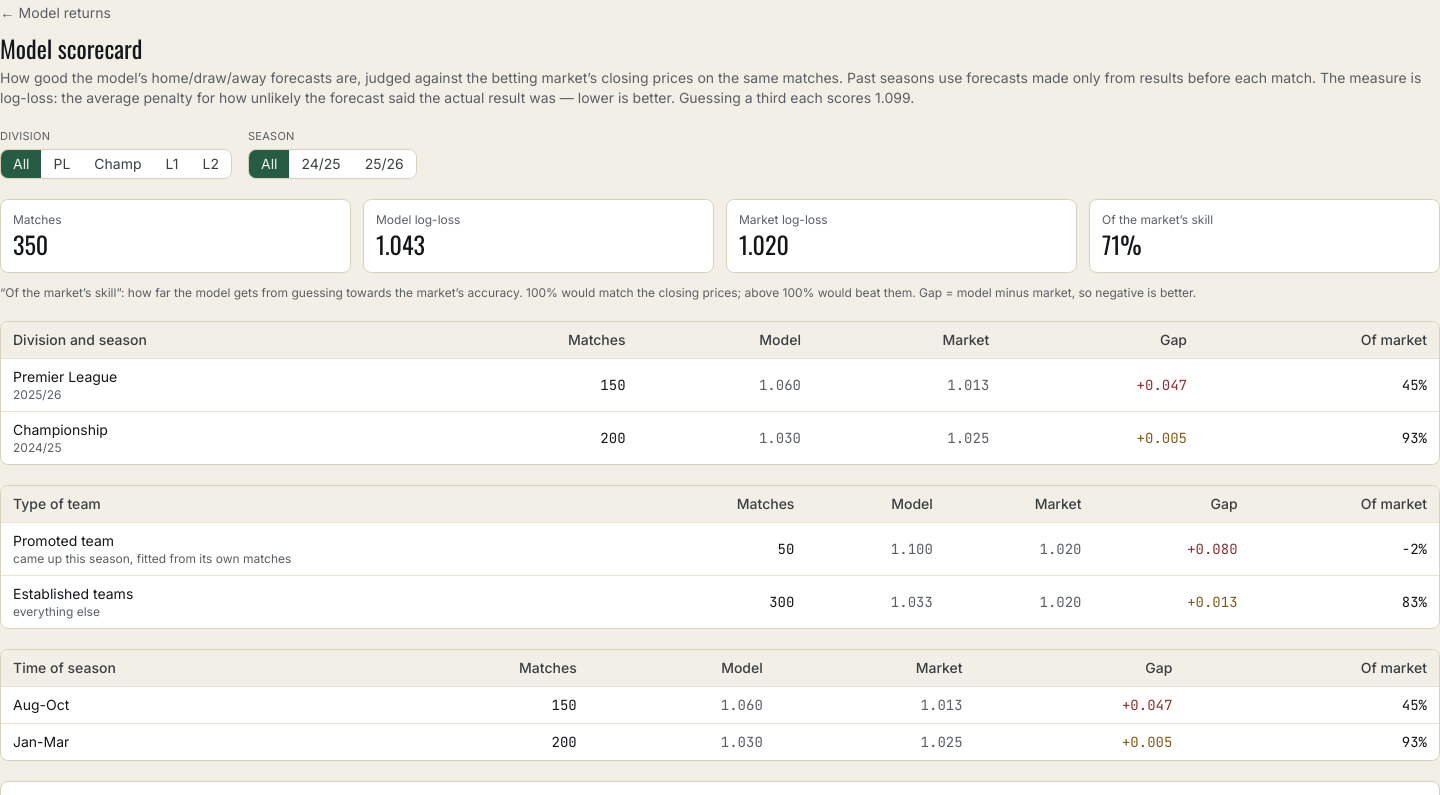
Test case: ModelScorecardPage › filters by division and season
Expected: the element named "Headline" is shown, [0,198,1439,272]
Step 1. Click the button "Champ" → (118, 164), box [82,150,154,178]
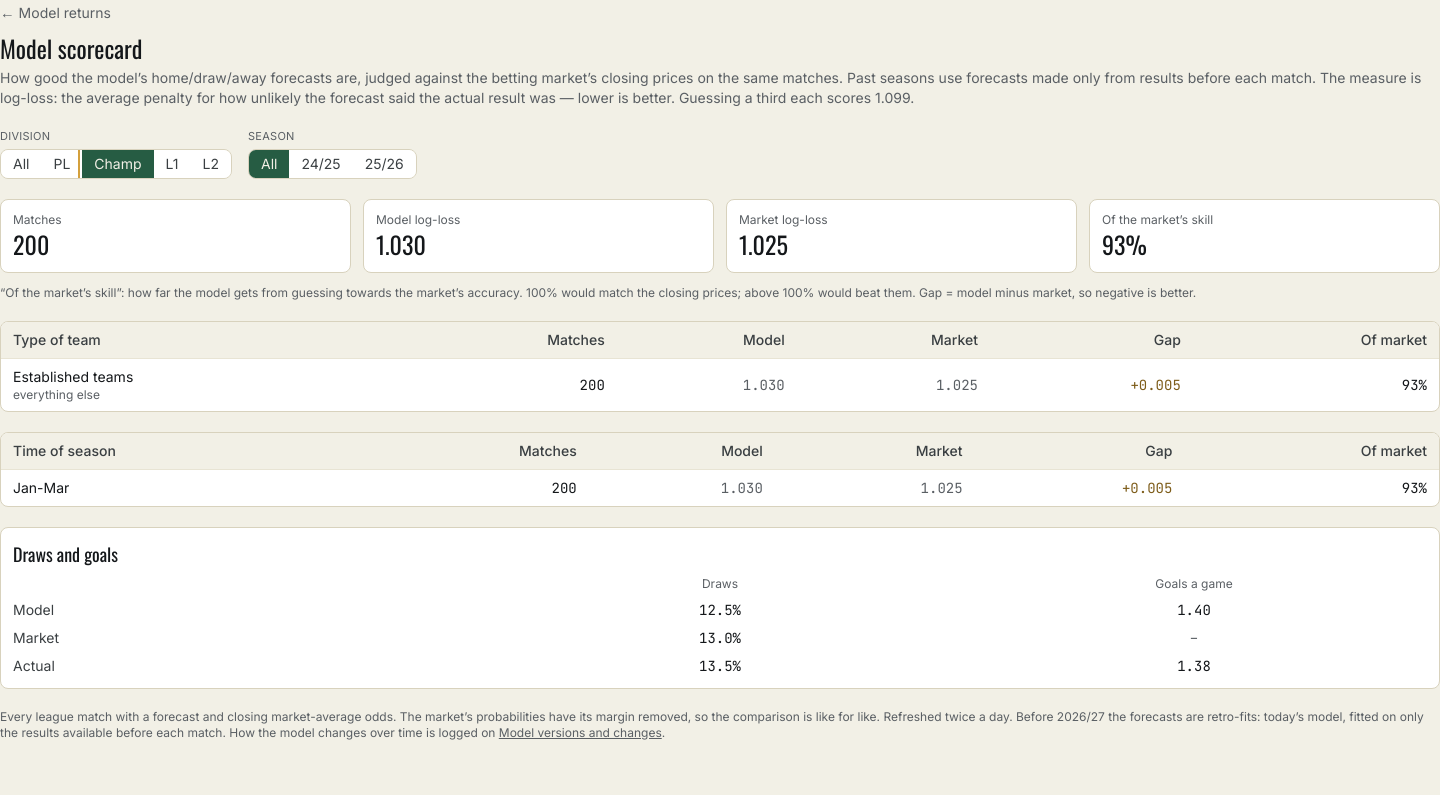
Now the text "200" is shown, box [13,226,49,262]
Now the column heading "Division and season" is gone
Step 2. Click the button "25/26" → (384, 164), box [353,150,416,178]
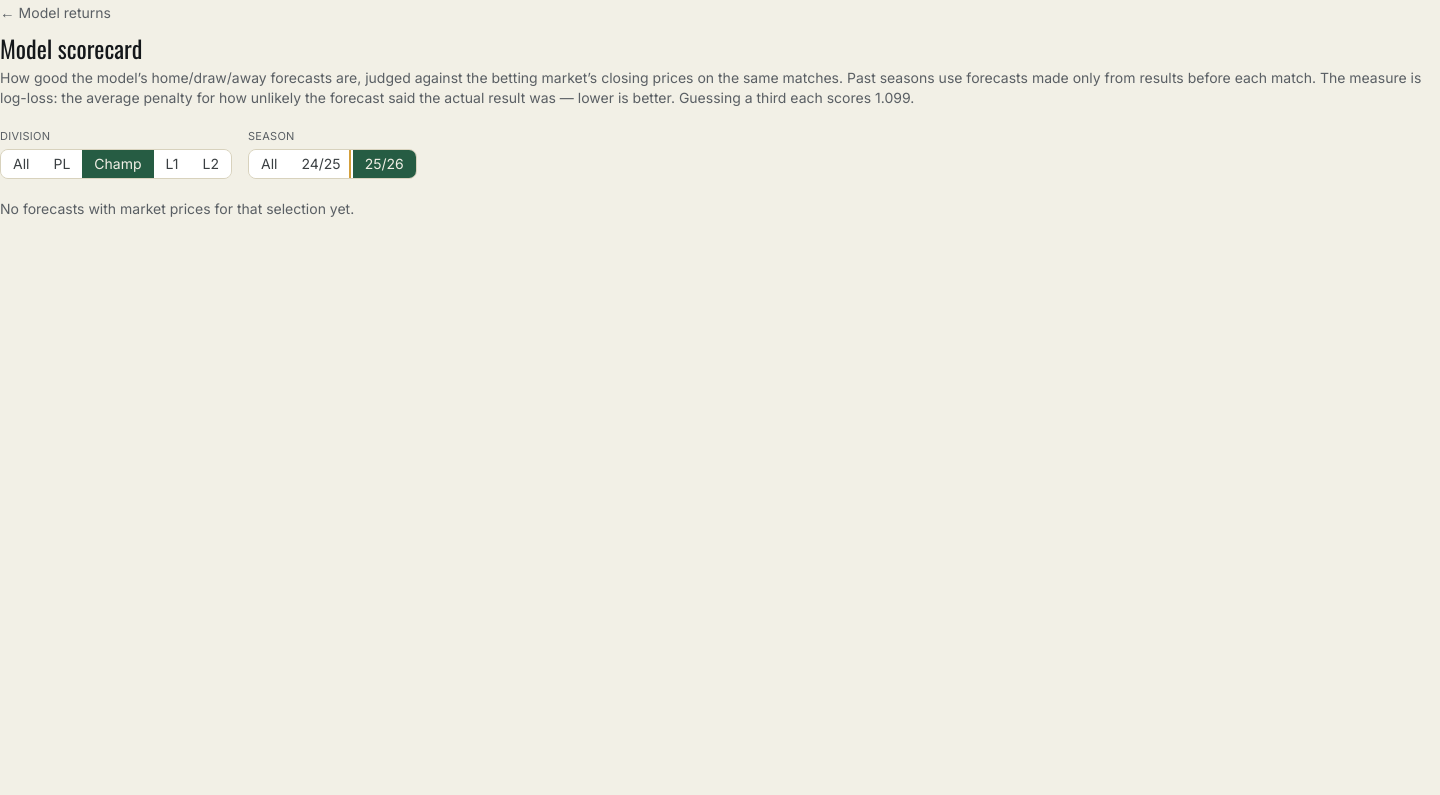
Now the text "No forecasts with market prices for that selection yet." is shown, box [0,200,354,216]
